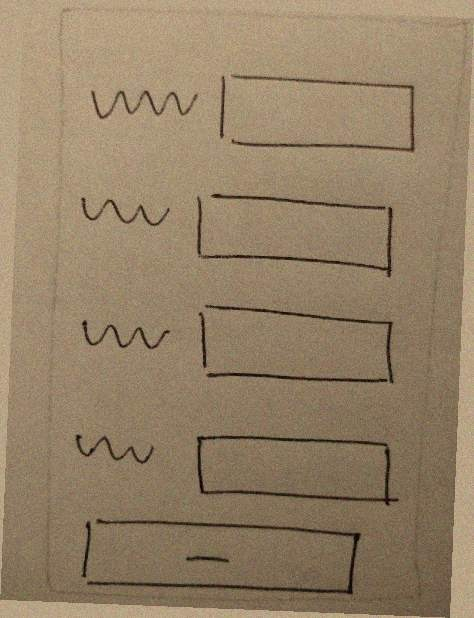button: (73, 509, 367, 604)
text: (77, 75, 205, 128), (67, 305, 177, 363), (75, 184, 177, 244), (64, 421, 160, 477)
text_input: (210, 60, 429, 168), (186, 180, 405, 284), (189, 295, 407, 396), (189, 424, 410, 515)
